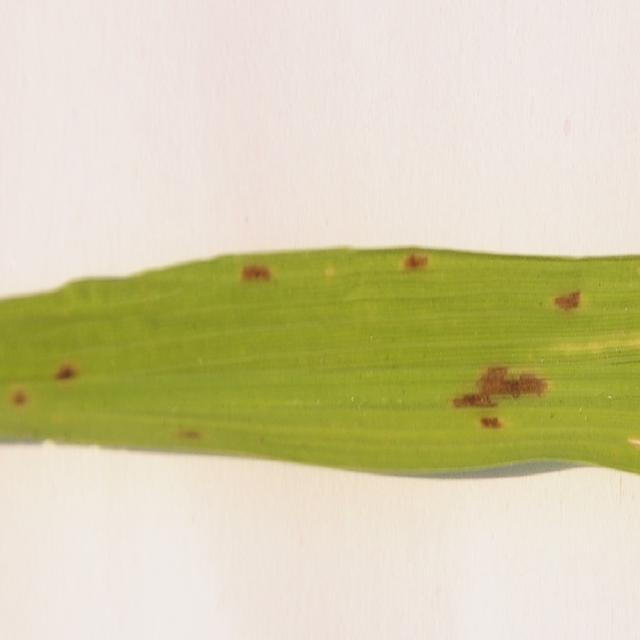Unhealthy: (452, 364, 550, 411), (553, 287, 583, 313), (52, 360, 81, 386), (240, 265, 275, 283), (399, 251, 432, 270), (11, 387, 31, 412), (175, 429, 202, 444), (478, 416, 505, 430), (628, 437, 640, 452)
